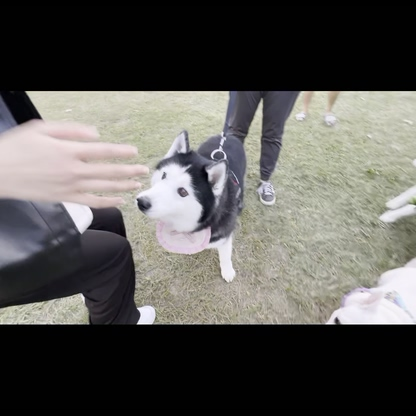husky: (132, 128, 250, 286)
